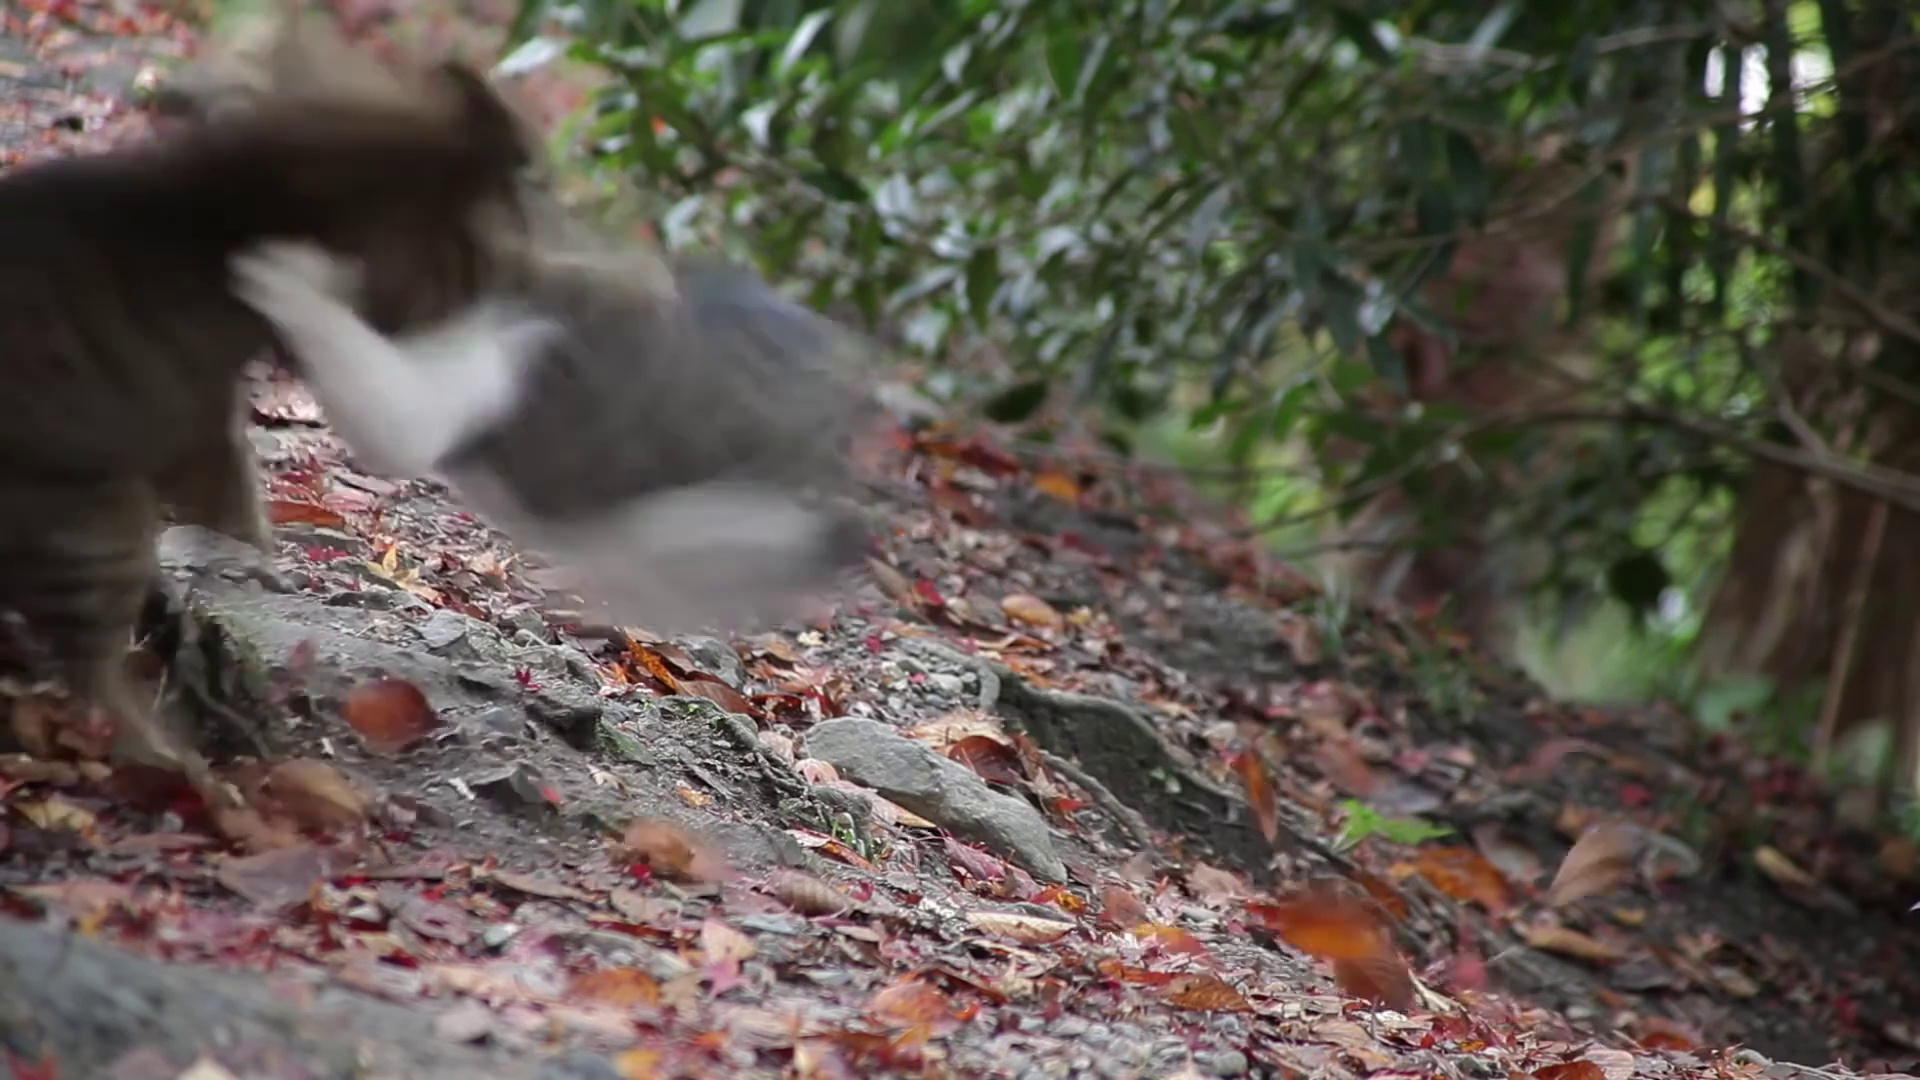black-white: (229, 199, 911, 632)
pure black: (11, 55, 530, 771)
